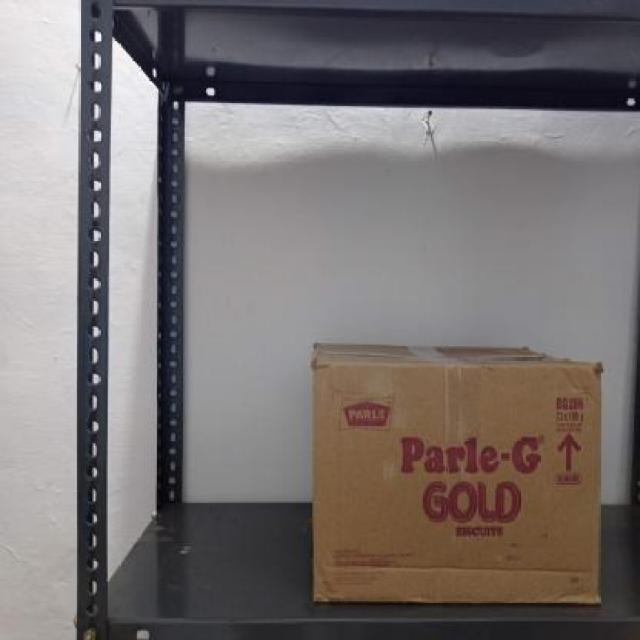box: (312, 360, 600, 608)
